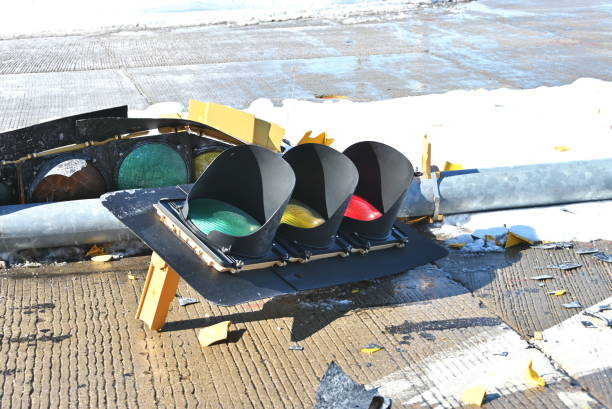Traffic Signal: (150, 136, 448, 285)
